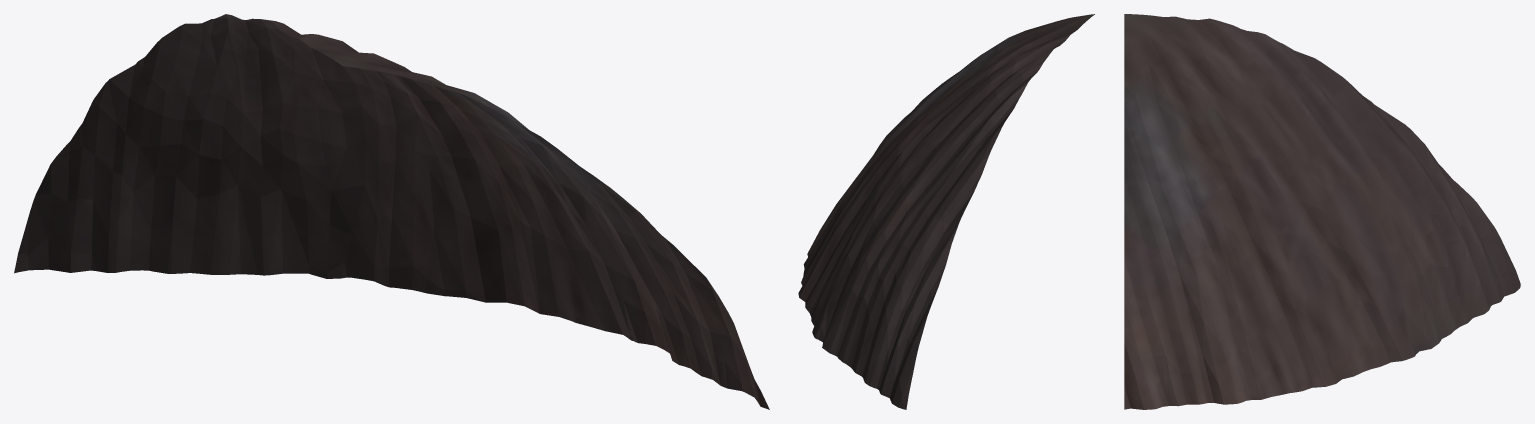
3 views of the same model, side by side, from view 1: azimuth 30°, elevation 25°; view 2: azimuth 150°, elevation 25°; view 3: azimuth 270°, elevation 25° (orthographic). The views are drawn at different scales.
Parts seen in each view (by area): view 1: 091_W_Aya_100K_01; view 2: 091_W_Aya_100K_01; view 3: 091_W_Aya_100K_01.
Boxes of the visible parts, x1,y1,x2,y2 form: 091_W_Aya_100K_01: (14, 14, 769, 409); 091_W_Aya_100K_01: (798, 14, 1094, 409); 091_W_Aya_100K_01: (1124, 14, 1520, 409).
Bounding box in the file's own units: 52.66 × 52.65 × 70.08.
Materials: 1 (1 with a texture image).
